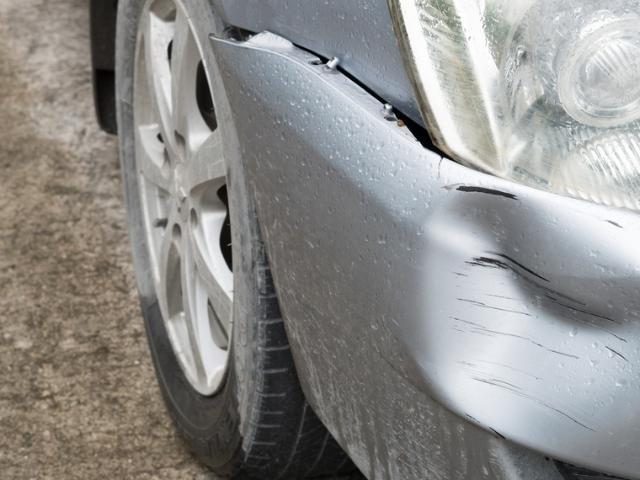Bumper: (207, 25, 640, 480)
